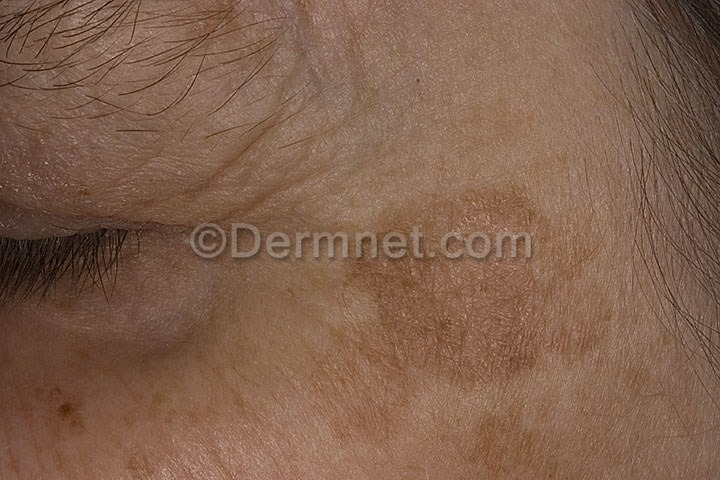Melasma: (338, 263, 631, 471), (353, 170, 539, 228), (12, 353, 118, 454)
